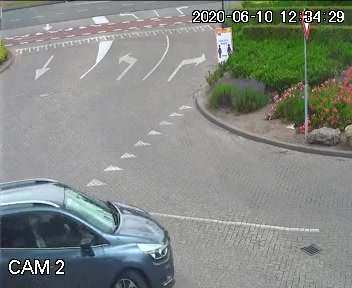car: (0, 173, 192, 288)
